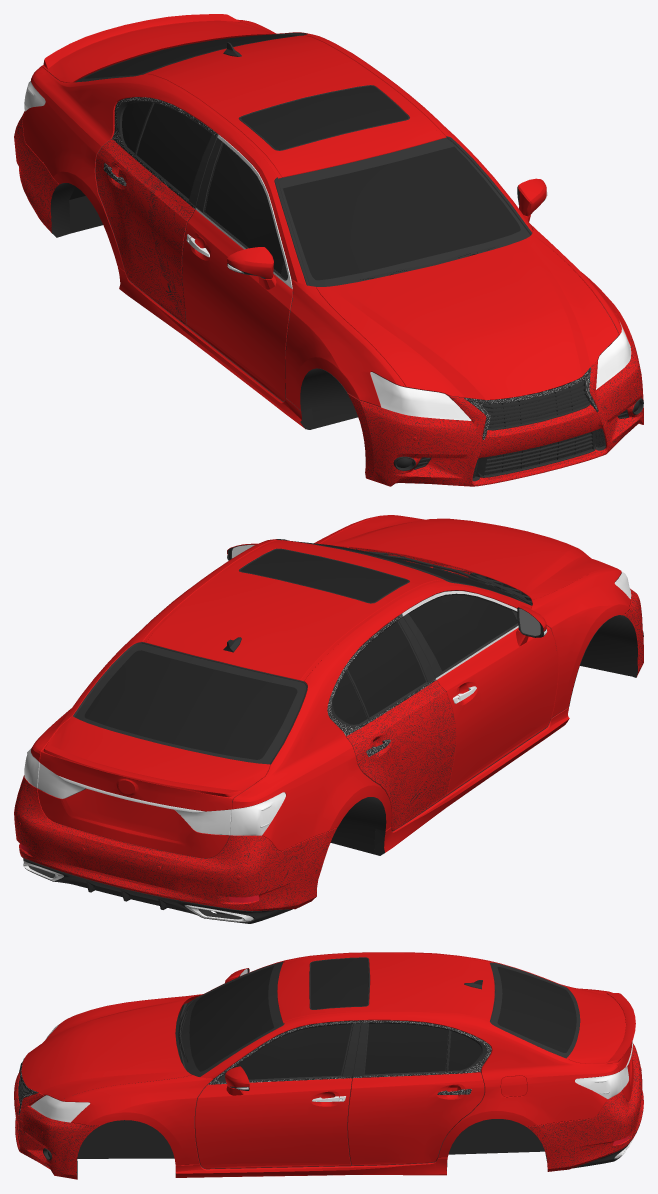
The picture shows the model from 3 angles, top to bottom: view 1: azimuth 30°, elevation 25°; view 2: azimuth 150°, elevation 25°; view 3: azimuth 270°, elevation 25°; orthographic projection. The views are drawn at different scales.
Parts seen in each view (by area): view 1: Combined GLOSS Object 0, Combined O_Glass Object 0, Combined DarkGrey Object 0, Combined O_FrontLights Object 0, Combined CHROME Object 0; view 2: Combined GLOSS Object 0, Combined O_Glass Object 0, Combined DarkGrey Object 0, Combined O_FrontLights Object 0, Combined CHROME Object 0; view 3: Combined GLOSS Object 0, Combined O_Glass Object 0, Combined DarkGrey Object 0, Combined O_FrontLights Object 0, Combined CHROME Object 0.
Boxes of the visible parts, x1,y1,x2,y2 form: Combined GLOSS Object 0: (14, 14, 643, 486); Combined O_Glass Object 0: (84, 34, 520, 280); Combined DarkGrey Object 0: (14, 33, 643, 486); Combined O_FrontLights Object 0: (24, 81, 631, 420); Combined CHROME Object 0: (104, 97, 596, 439); Combined GLOSS Object 0: (14, 515, 643, 910); Combined O_Glass Object 0: (84, 540, 519, 759); Combined DarkGrey Object 0: (14, 539, 643, 923); Combined O_FrontLights Object 0: (24, 571, 631, 835); Combined CHROME Object 0: (23, 545, 547, 921); Combined GLOSS Object 0: (14, 952, 643, 1179); Combined O_Glass Object 0: (189, 958, 576, 1079); Combined DarkGrey Object 0: (14, 957, 643, 1178); Combined O_FrontLights Object 0: (30, 1024, 628, 1122); Combined CHROME Object 0: (19, 969, 633, 1158).
Size of the model in its own units: 2.1 by 1.31 by 4.87.
